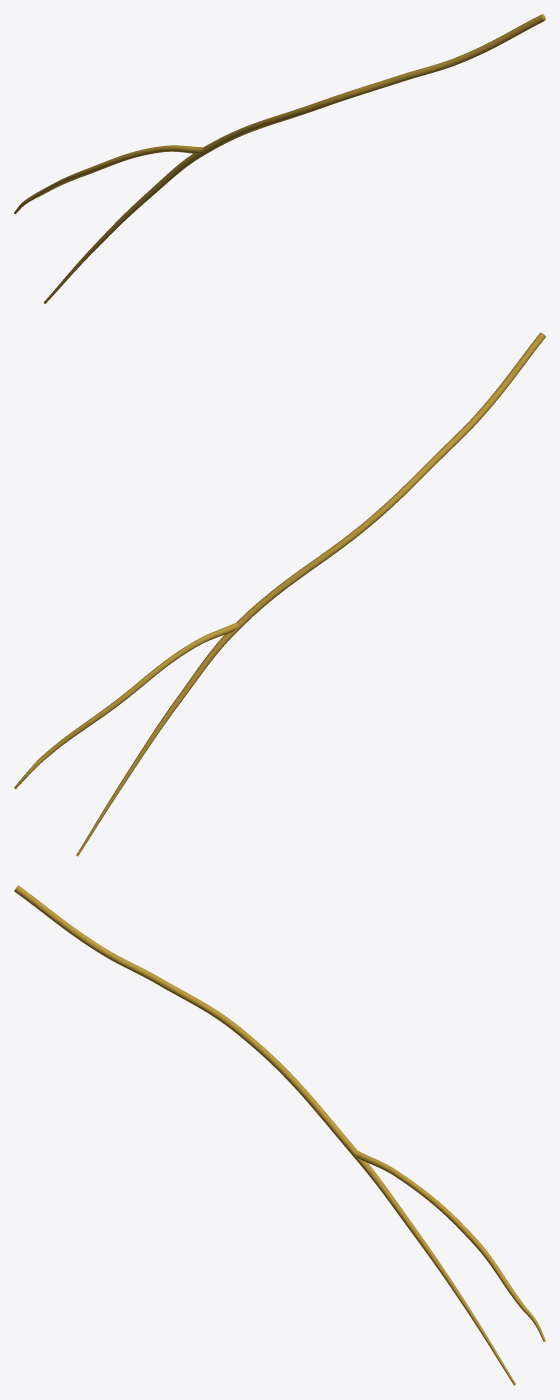
3 views of the same model, one above another, from view 1: azimuth 90°, elevation 25°; view 2: azimuth 150°, elevation 25°; view 3: azimuth 270°, elevation 25° (orthographic).
Parts seen in each view (by area): view 1: 右侧下颌舌骨肌神经; view 2: 右侧下颌舌骨肌神经; view 3: 右侧下颌舌骨肌神经.
Boxes of the visible parts, bbox=[...] form: 右侧下颌舌骨肌神经: bbox=[14, 14, 545, 303]; 右侧下颌舌骨肌神经: bbox=[14, 332, 545, 856]; 右侧下颌舌骨肌神经: bbox=[14, 885, 545, 1385].
Bounding box in the file's own units: 0.037 × 0.0521 × 0.0637.
